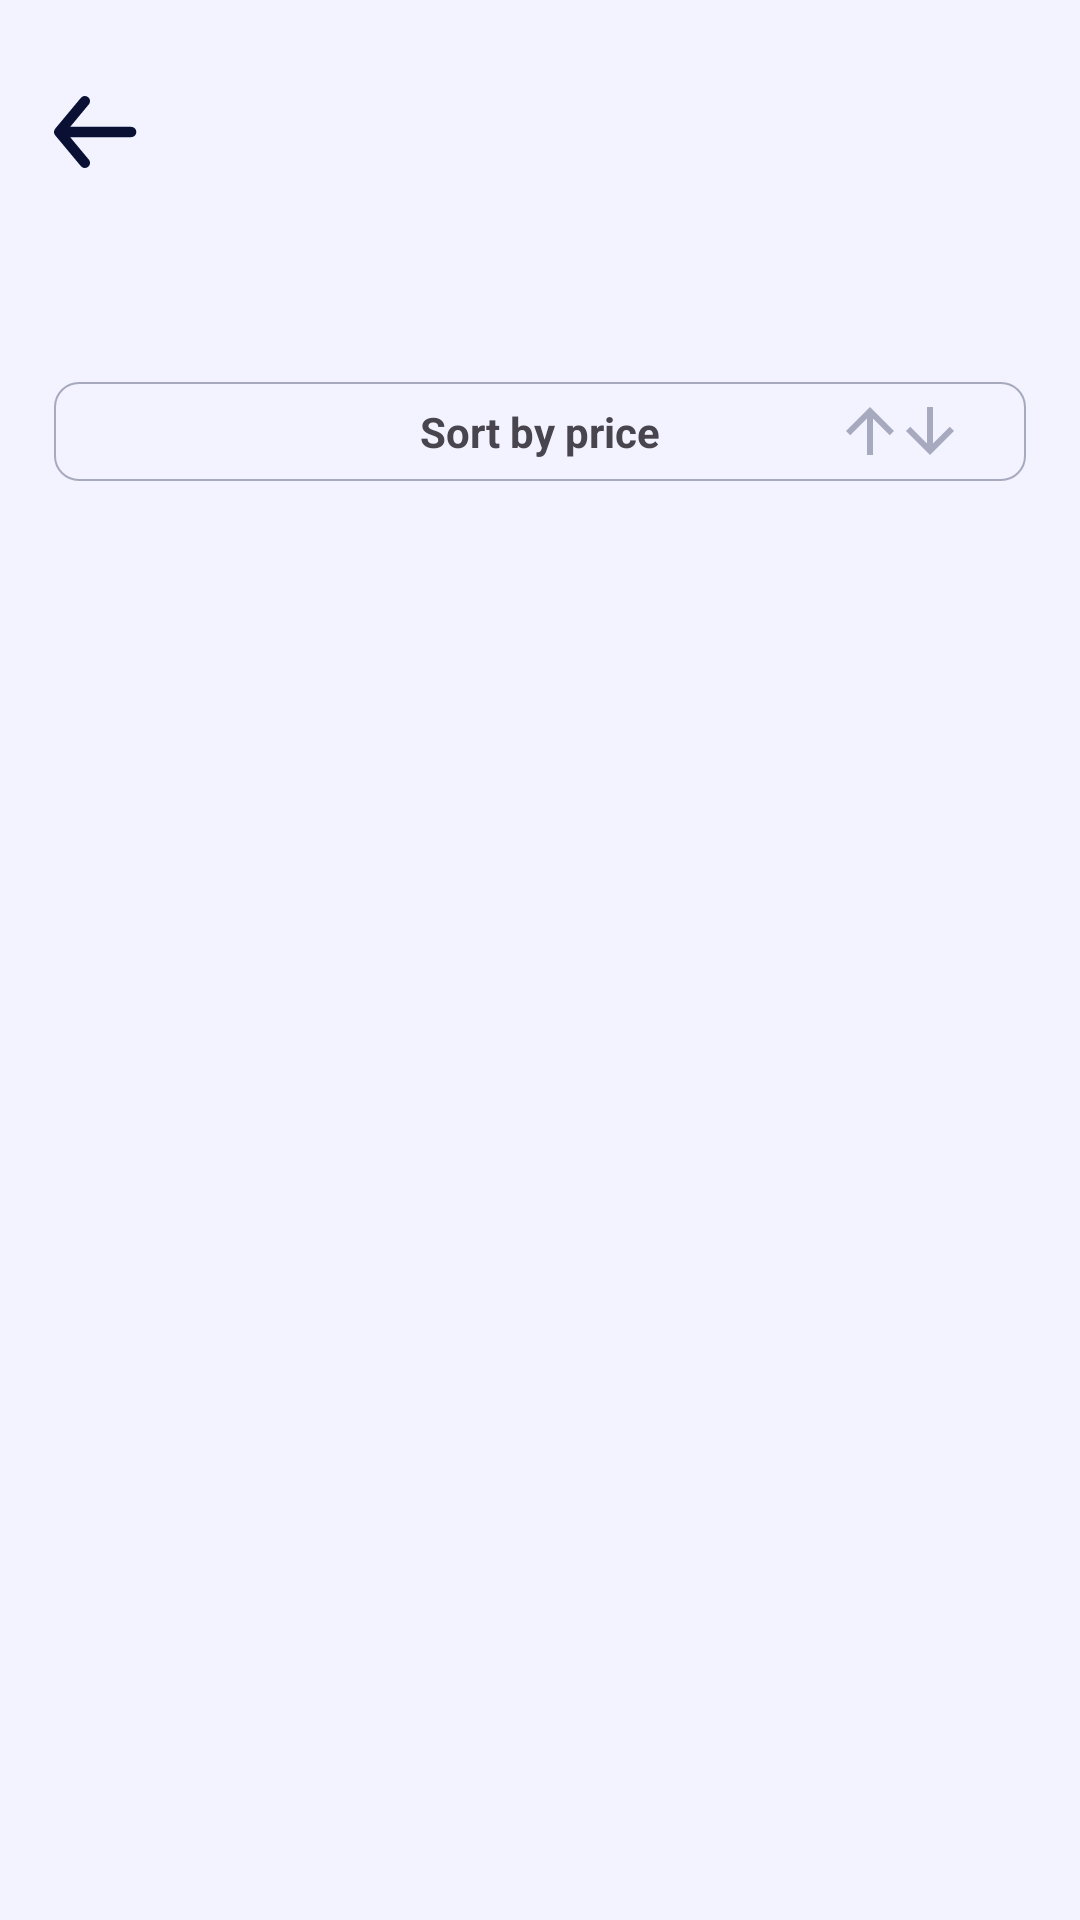

Point at icon controls on the screen. Image size 1080w x 1920h, points as (x,y).
arrow downward: (930,431)
arrow upward: (870,431)
back button: (95,132)
